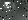person: (5, 4, 12, 13)
